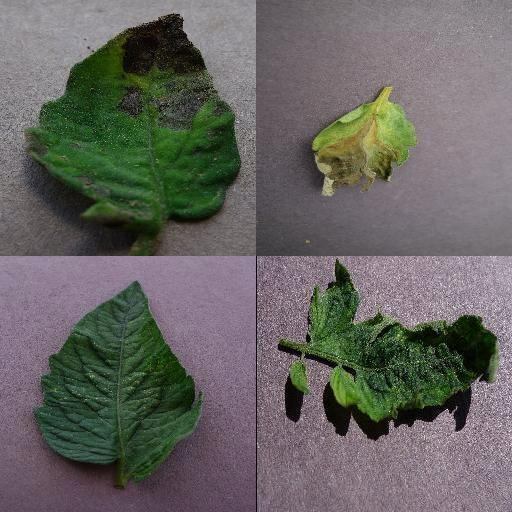Early Blight: (26, 13, 242, 231)
Late Blight: (309, 97, 415, 197)
Mosaic Virus: (306, 257, 500, 425)
Spider Mites: (34, 279, 204, 481)
